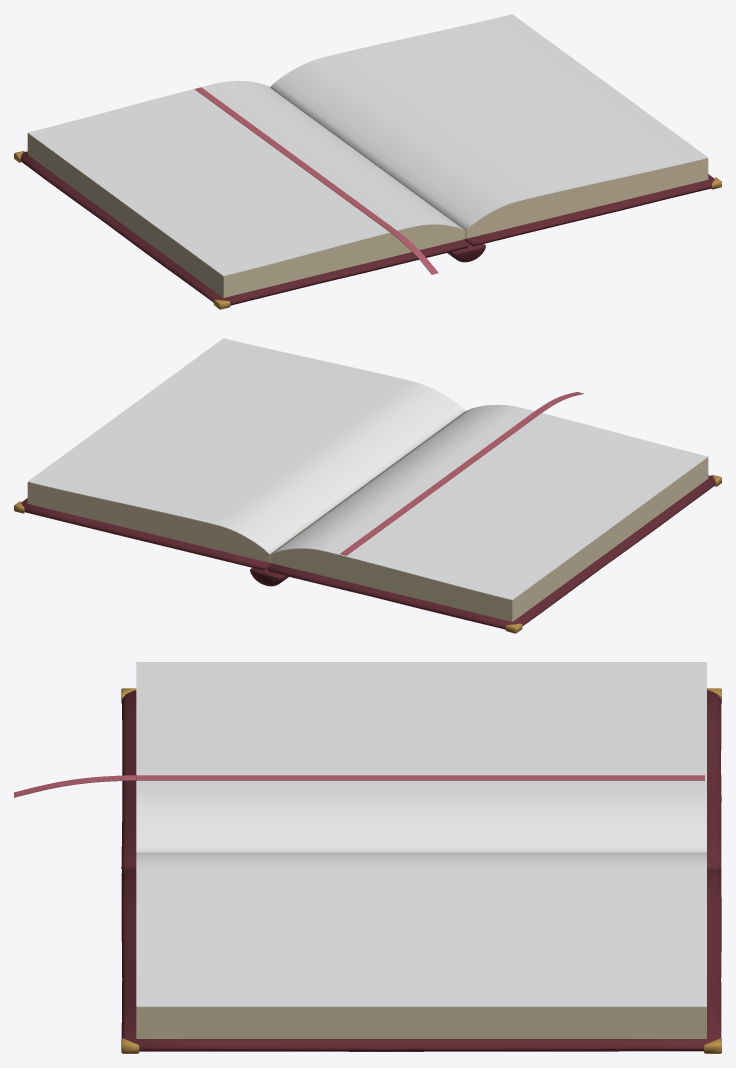
File: title_book.glb
The picture shows the model from 3 angles, top to bottom: view 1: azimuth 30°, elevation 25°; view 2: azimuth 150°, elevation 25°; view 3: azimuth 270°, elevation 25°; orthographic projection. The views are drawn at different scales.
Visible parts, largest first — view 1: Seite rechts, Seite links, Sammel Stoff, Sammel Glatt; view 2: Seite rechts, Seite links, Sammel Stoff, Sammel Glatt; view 3: Seite links, Seite rechts, Sammel Stoff, Sammel Glatt, Sammel Metall.
Boxes of the visible parts, x1,y1,x2,y2 form: Seite rechts: [270, 14, 708, 230]; Seite links: [27, 80, 465, 276]; Sammel Stoff: [27, 87, 708, 297]; Sammel Glatt: [20, 151, 714, 305]; Seite rechts: [27, 338, 465, 554]; Seite links: [270, 404, 708, 600]; Sammel Stoff: [27, 392, 708, 621]; Sammel Glatt: [21, 475, 715, 629]; Seite links: [136, 662, 706, 852]; Seite rechts: [136, 852, 706, 1007]; Sammel Stoff: [14, 775, 706, 1038]; Sammel Glatt: [121, 690, 721, 1051]; Sammel Metall: [121, 688, 721, 1053].
Bounding box in the file's own units: 2.07 × 0.181 × 1.74.
